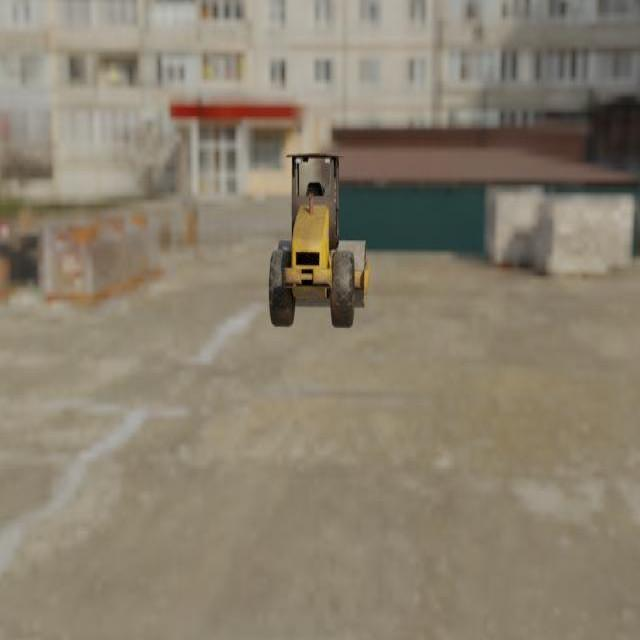Roller: (268, 152, 370, 328)
